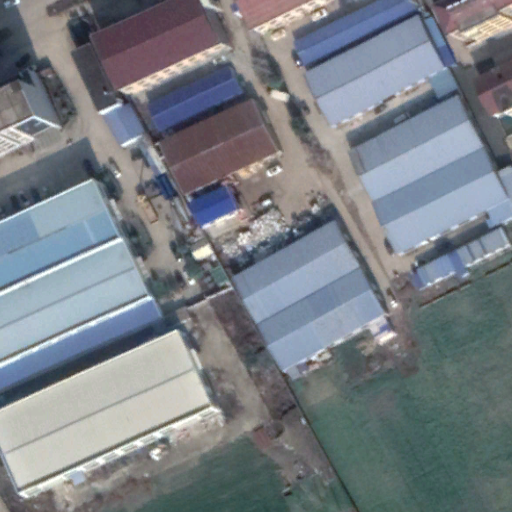msw: (219, 207, 303, 265)
